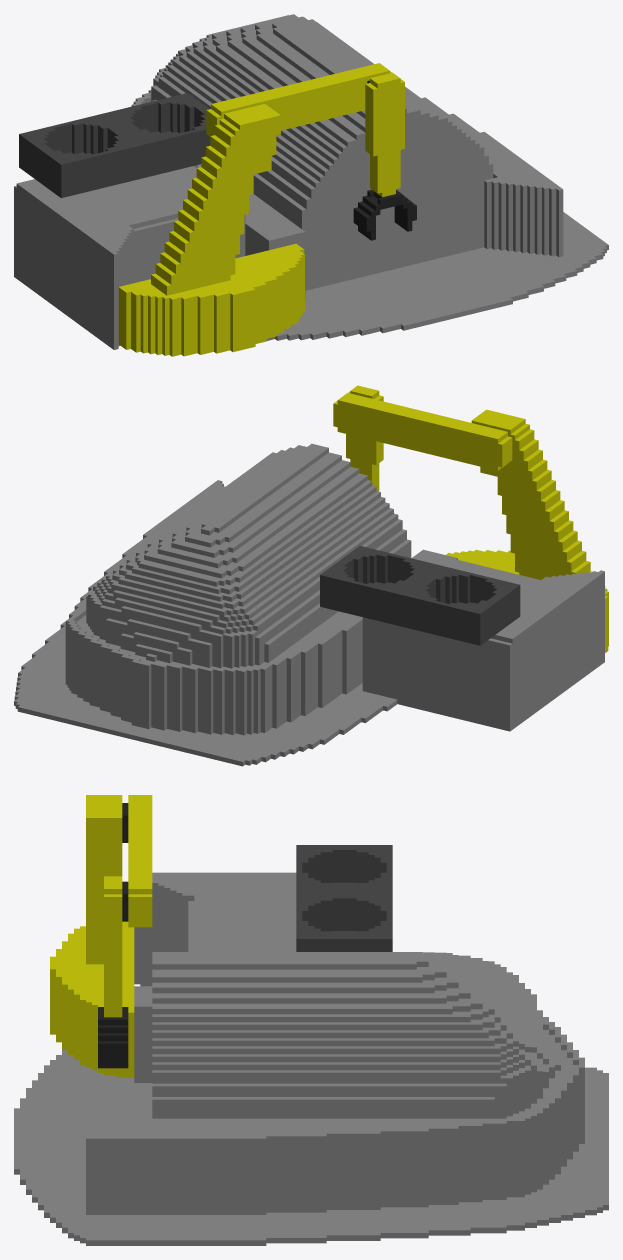
Rendered from GDIConstructionYardBody.obj.
3 views of the same model, one above another, from view 1: azimuth 30°, elevation 25°; view 2: azimuth 150°, elevation 25°; view 3: azimuth 270°, elevation 25° (orthographic). The views are drawn at different scales.
Size of the model in its own units: 10.4 by 4.5 by 9.9.
1 material, 1 textured.
